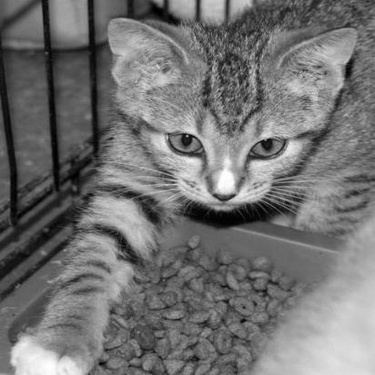cat: (2, 9, 359, 371)
